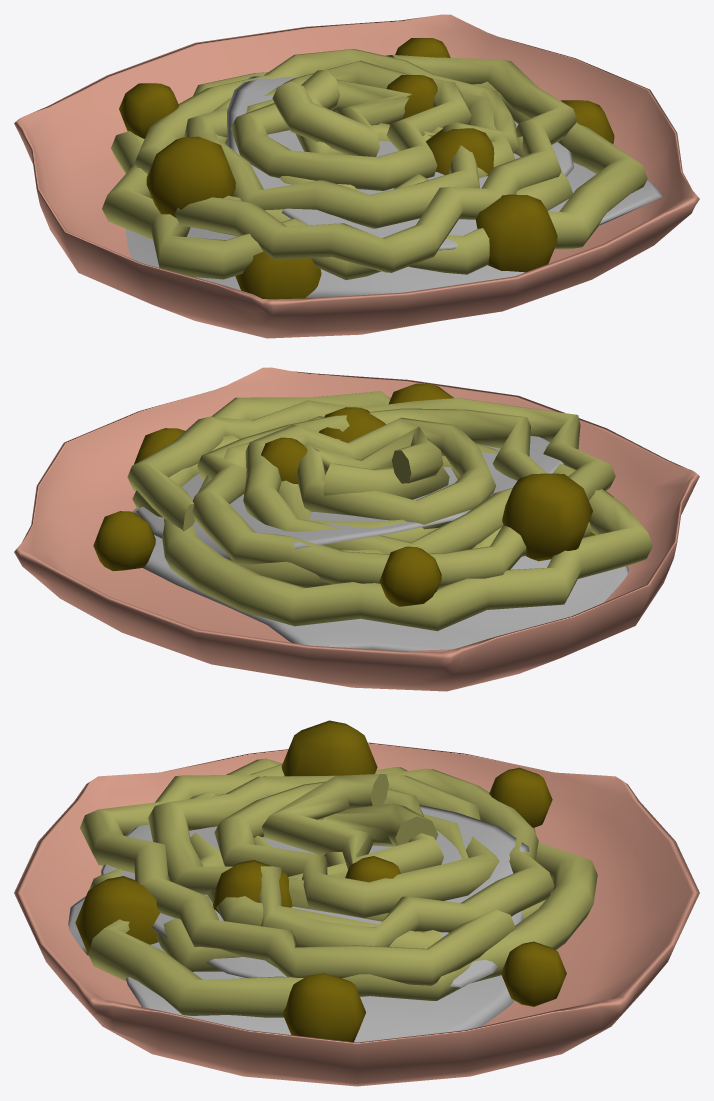
Rendered from Spaghetti_Middle_01.fbx.
3 renders of one model, top to bottom at view 1: azimuth 30°, elevation 25°; view 2: azimuth 150°, elevation 25°; view 3: azimuth 270°, elevation 25°, orthographic. The views are drawn at different scales.
Parts seen in each view (by area): view 1: spaghetti_dishes:plate, spaghetti_dishes:piece08, spaghetti_dishes:piece09, spaghetti_dishes:salsa3, spaghetti_dishes:salsa2, spaghetti_dishes:pCube3, spaghetti_dishes:pCube4, spaghetti_dishes:pCube10, spaghetti_dishes:pCube9, spaghetti_dishes:pCube13, spaghetti_dishes:pCube11, spaghetti_dishes:pCube7 (+1 smaller); view 2: spaghetti_dishes:plate, spaghetti_dishes:piece08, spaghetti_dishes:piece09, spaghetti_dishes:salsa3, spaghetti_dishes:pCube3, spaghetti_dishes:salsa2, spaghetti_dishes:pCube8, spaghetti_dishes:pCube9, spaghetti_dishes:pCube11, spaghetti_dishes:pCube13, spaghetti_dishes:pCube4, spaghetti_dishes:pCube7; view 3: spaghetti_dishes:plate, spaghetti_dishes:piece08, spaghetti_dishes:piece09, spaghetti_dishes:salsa3, spaghetti_dishes:salsa2, spaghetti_dishes:pCube7, spaghetti_dishes:pCube3, spaghetti_dishes:pCube4, spaghetti_dishes:pCube8, spaghetti_dishes:pCube9, spaghetti_dishes:pCube13, spaghetti_dishes:pCube11.
Part boxes in pixels (box(x1,y1,x2,y2)): spaghetti_dishes:plate: box(14, 14, 699, 338); spaghetti_dishes:piece08: box(134, 49, 577, 272); spaghetti_dishes:piece09: box(102, 69, 647, 279); spaghetti_dishes:salsa3: box(125, 162, 662, 297); spaghetti_dishes:salsa2: box(227, 75, 573, 250); spaghetti_dishes:pCube3: box(146, 136, 235, 217); spaghetti_dishes:pCube4: box(476, 194, 557, 272); spaghetti_dishes:pCube10: box(235, 251, 321, 299); spaghetti_dishes:pCube9: box(119, 83, 178, 138); spaghetti_dishes:pCube13: box(426, 128, 494, 176); spaghetti_dishes:pCube11: box(386, 75, 437, 118); spaghetti_dishes:pCube7: box(559, 100, 614, 143); spaghetti_dishes:plate: box(14, 367, 699, 691); spaghetti_dishes:piece08: box(127, 398, 615, 587); spaghetti_dishes:piece09: box(132, 391, 652, 631); spaghetti_dishes:salsa3: box(132, 508, 628, 651); spaghetti_dishes:pCube3: box(502, 473, 592, 561); spaghetti_dishes:salsa2: box(134, 436, 564, 559); spaghetti_dishes:pCube8: box(93, 511, 155, 571); spaghetti_dishes:pCube9: box(379, 546, 441, 606); spaghetti_dishes:pCube11: box(261, 437, 307, 484); spaghetti_dishes:pCube13: box(319, 407, 385, 442); spaghetti_dishes:pCube4: box(389, 383, 453, 404); spaghetti_dishes:pCube7: box(134, 428, 184, 464); spaghetti_dishes:plate: box(14, 742, 699, 1086); spaghetti_dishes:piece08: box(80, 764, 554, 985); spaghetti_dishes:piece09: box(88, 758, 597, 1017); spaghetti_dishes:salsa3: box(68, 896, 514, 1042); spaghetti_dishes:salsa2: box(101, 795, 530, 987); spaghetti_dishes:pCube7: box(282, 973, 365, 1041); spaghetti_dishes:pCube3: box(281, 720, 377, 776); spaghetti_dishes:pCube4: box(75, 876, 159, 953); spaghetti_dishes:pCube8: box(501, 941, 566, 1006); spaghetti_dishes:pCube9: box(489, 767, 552, 827); spaghetti_dishes:pCube13: box(212, 860, 292, 912); spaghetti_dishes:pCube11: box(345, 856, 400, 882).
Size of the model in its own units: 10.63 by 2.8 by 10.15.
